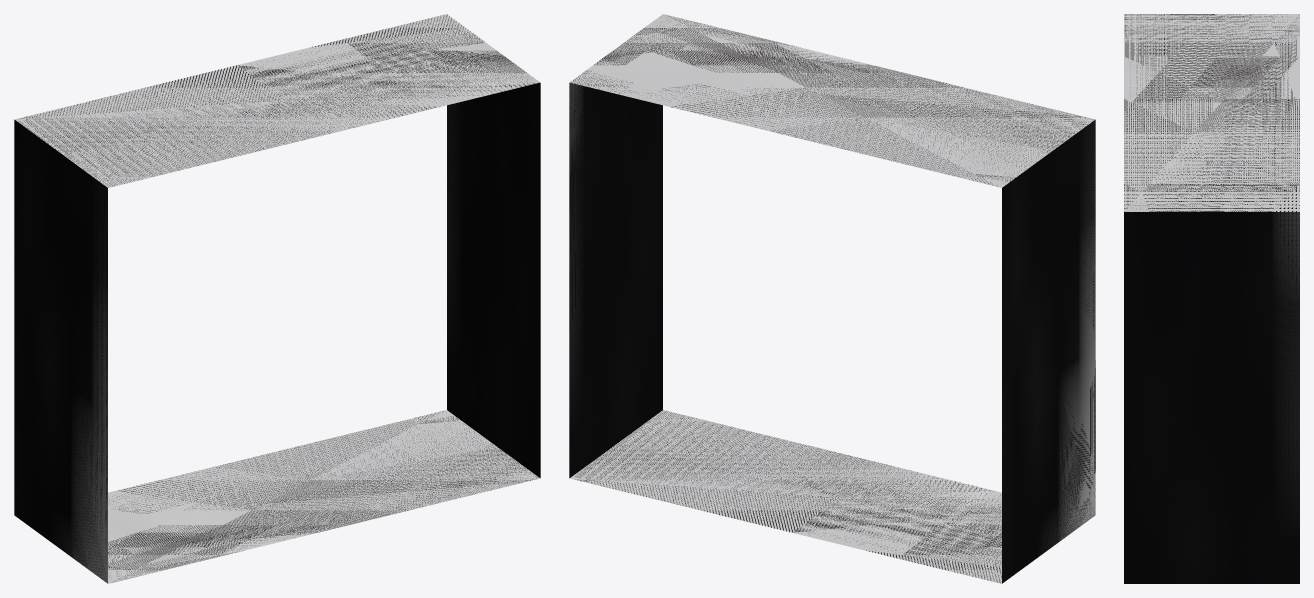
File: original-30.obj
3 renders of one model, left to right at view 1: azimuth 30°, elevation 25°; view 2: azimuth 150°, elevation 25°; view 3: azimuth 270°, elevation 25°, orthographic. The views are drawn at different scales.
Visible parts, largest first — view 1: #ID278; view 2: #ID278; view 3: #ID278.
Part boxes in pixels (x1,y1,x2,y2): #ID278: [14, 14, 540, 583]; #ID278: [569, 14, 1095, 583]; #ID278: [1124, 14, 1299, 583].
Size of the model in its own units: 0.0223 by 0.0196 by 0.00838.
